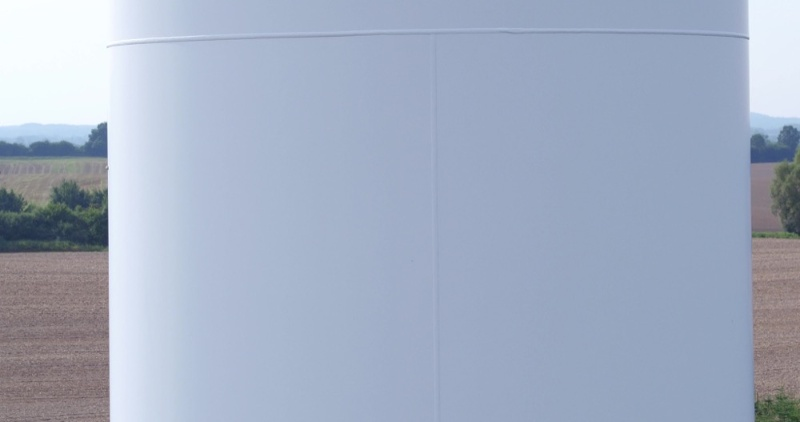weldseam: (103, 24, 754, 56), (427, 20, 450, 422)
